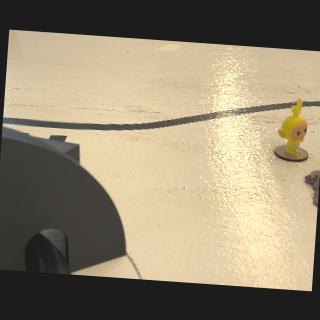teletubby: (277, 98, 307, 154)
